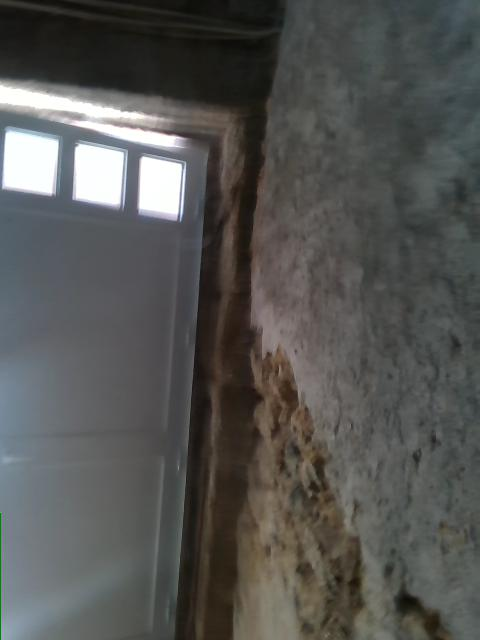door: (0, 91, 215, 639)
